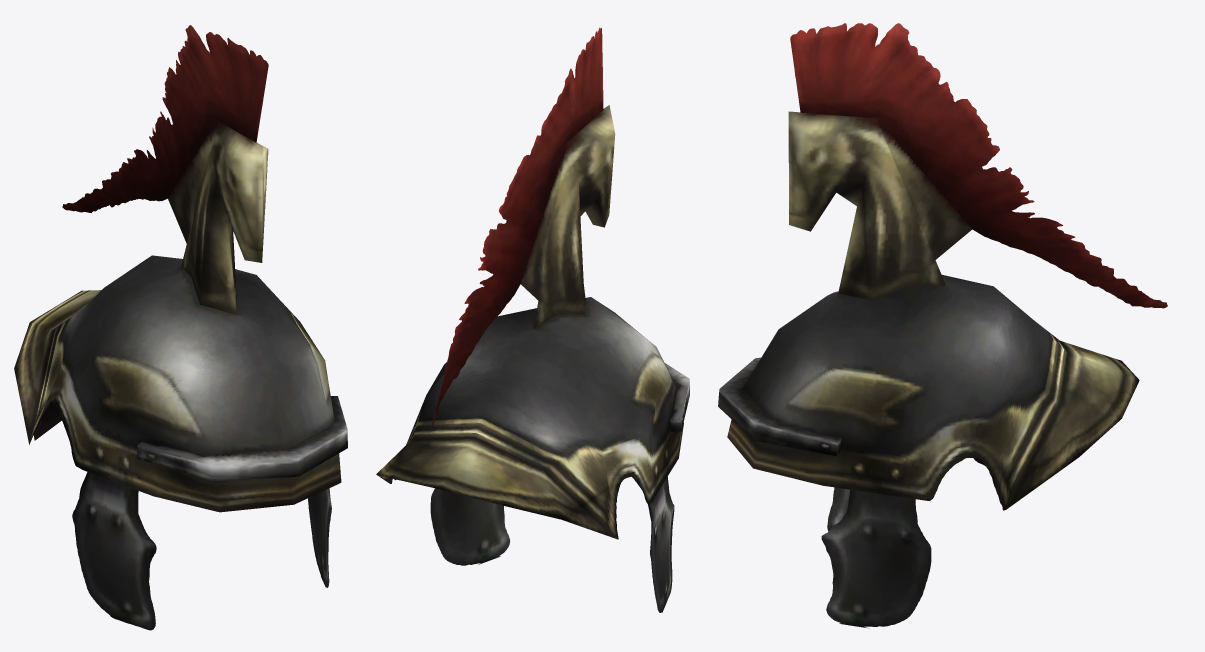
3 views of the same model, side by side, from view 1: azimuth 30°, elevation 25°; view 2: azimuth 150°, elevation 25°; view 3: azimuth 270°, elevation 25° (orthographic). The views are drawn at different scales.
Visible parts, largest first — view 1: EM_011041_01_051; view 2: EM_011041_01_051; view 3: EM_011041_01_051.
Part boxes in pixels (x1,y1,x2,y2): EM_011041_01_051: (14,25,347,630); EM_011041_01_051: (376,27,689,612); EM_011041_01_051: (718,23,1167,628).
Bounding box in the file's own units: 0.2738 × 0.6206 × 0.4758.
1 material, 1 textured.
